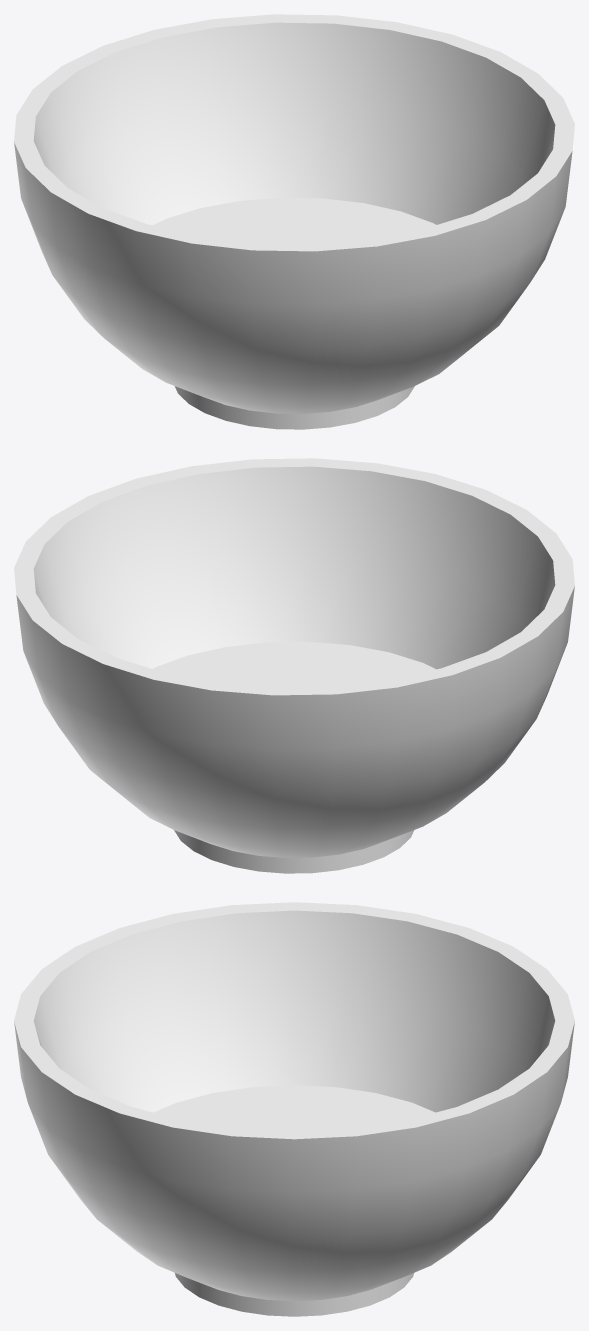
Rendered from Bowl_02.FBX.
3 renders of one model, top to bottom at view 1: azimuth 30°, elevation 25°; view 2: azimuth 150°, elevation 25°; view 3: azimuth 270°, elevation 25°, orthographic.
Parts seen in each view (by area): view 1: Bowl; view 2: Bowl; view 3: Bowl.
Part boxes in pixels (bbox=[...]): Bowl: bbox=[14, 14, 574, 429]; Bowl: bbox=[14, 458, 574, 873]; Bowl: bbox=[14, 902, 574, 1316].
Bounding box in the file's own units: 17.54 × 8.44 × 17.54.
